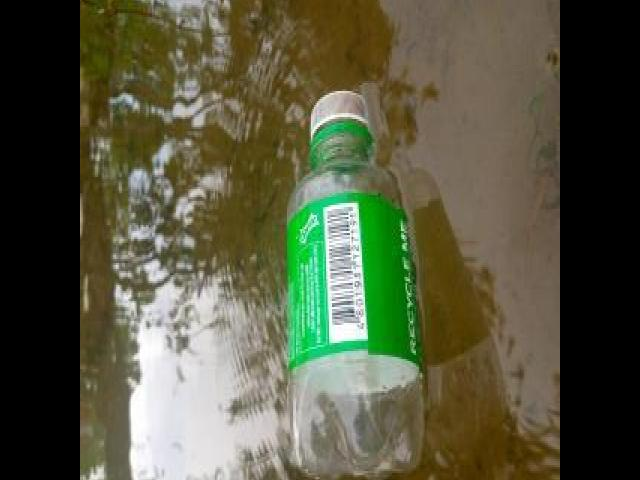Bottle: (278, 75, 430, 480)
